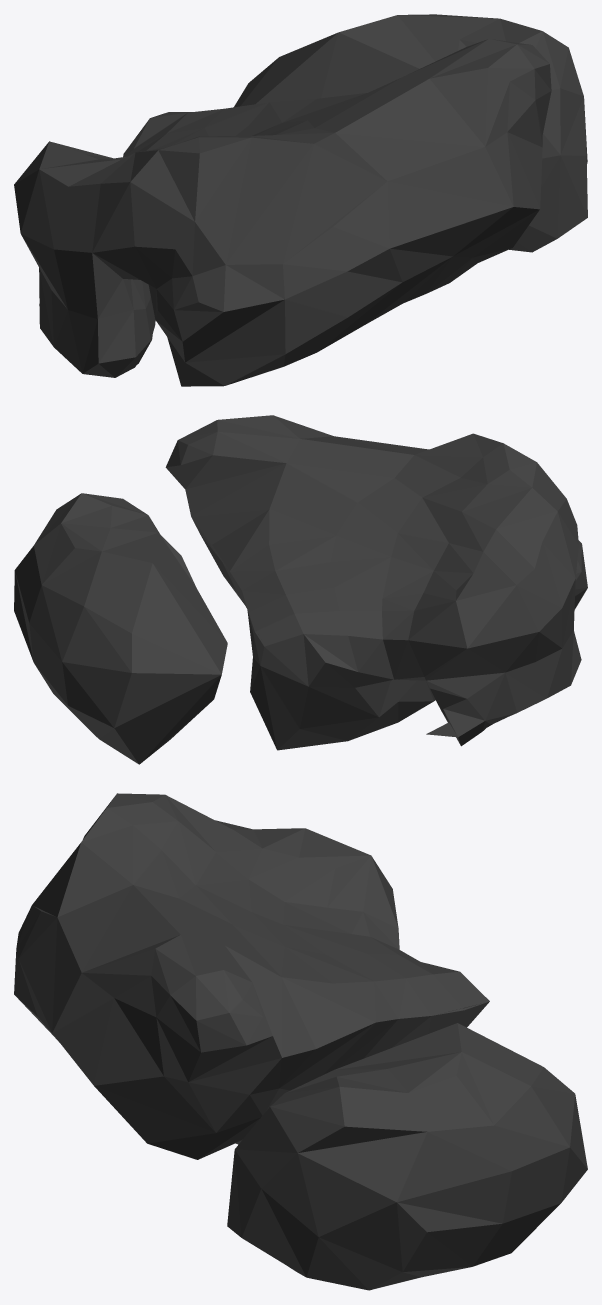
The model's file is LHL_base3.glb.
3 renders of one model, top to bottom at view 1: azimuth 30°, elevation 25°; view 2: azimuth 150°, elevation 25°; view 3: azimuth 270°, elevation 25°, orthographic. The views are drawn at different scales.
Visible parts, largest first — view 1: LHL_base3; view 2: LHL_base3; view 3: LHL_base3.
Boxes of the visible parts, x1,y1,x2,y2 form: LHL_base3: (14,14,587,386); LHL_base3: (14,415,587,764); LHL_base3: (14,793,587,1290).
Bounding box in the file's own units: 15.08 × 7.44 × 12.36.
Materials: 1 (1 with a texture image).
